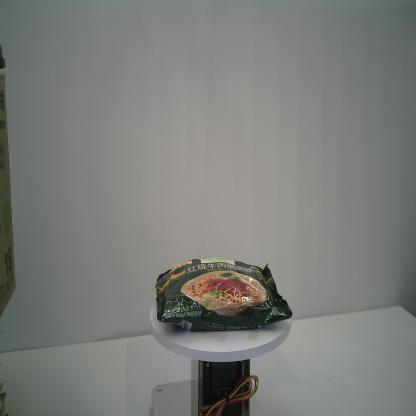Instant Noodles: (154, 257, 292, 332)
